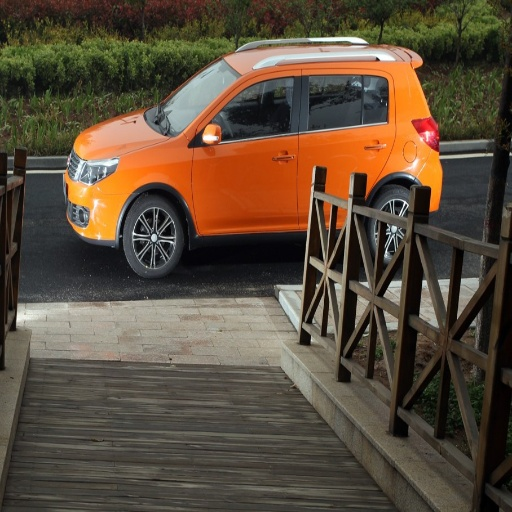back_left_door: (292, 65, 394, 224)
front_bumper: (67, 177, 115, 242)
front_glass: (150, 73, 212, 133)
front_left_door: (190, 66, 301, 231)
